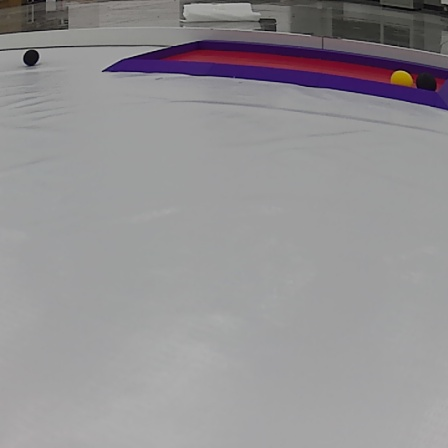black: (416, 72, 438, 93), (19, 51, 42, 68)
red_aim: (101, 36, 448, 112)
yellow: (390, 71, 415, 88)
